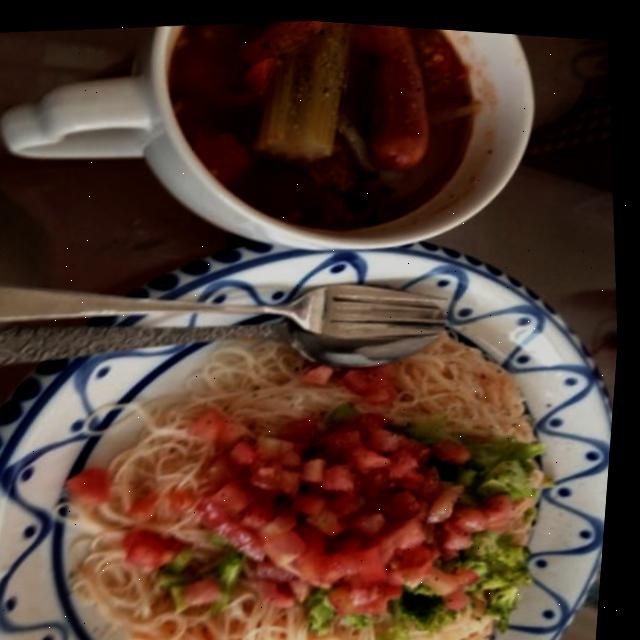面条主食: (10, 244, 626, 640)
